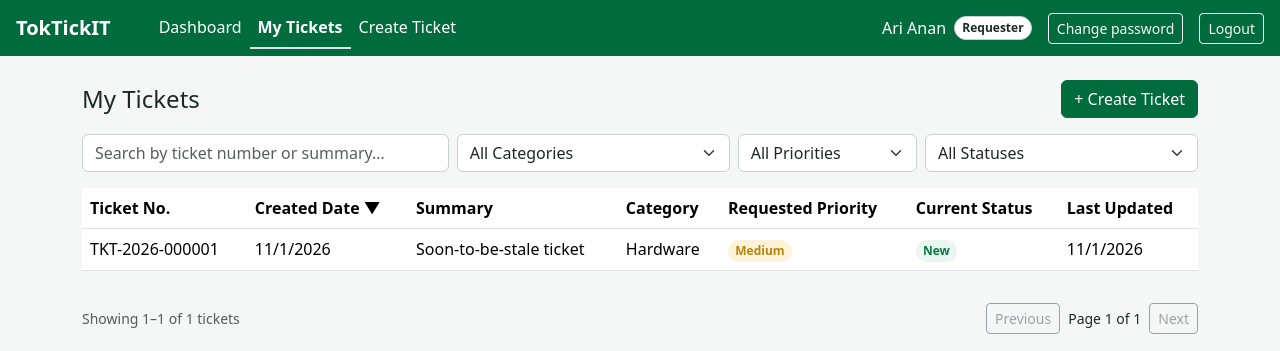
Test case: My Tickets › shows a failure state with Retry and clears stale rows when a later request fails (AC-13-adjacent)
Type "trigger failure" into the search field with placeholder "Search by ticket number or summary…" at (265, 153), box [82,134,449,172]
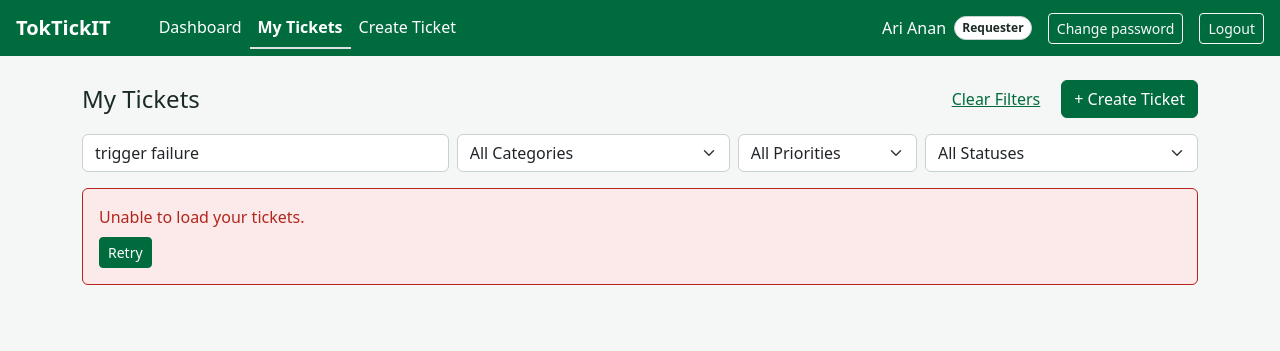
Expected: the message shows "Unable to load your tickets", [99,206,304,228]
Expected: the button "Soon-to-be-stale ticket" is gone
Click the button "Retry" at (125, 252), box [99,237,152,268]
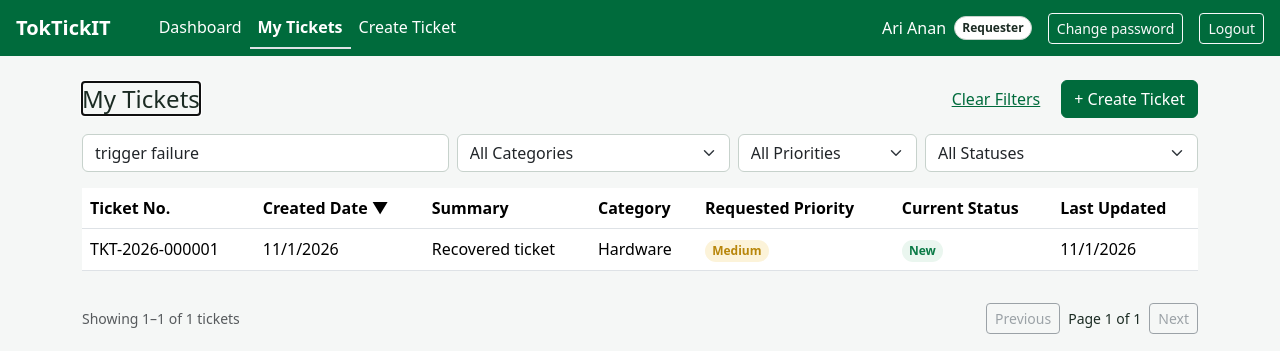
Expected: the text "Recovered ticket" is shown, [424,228,590,270]
